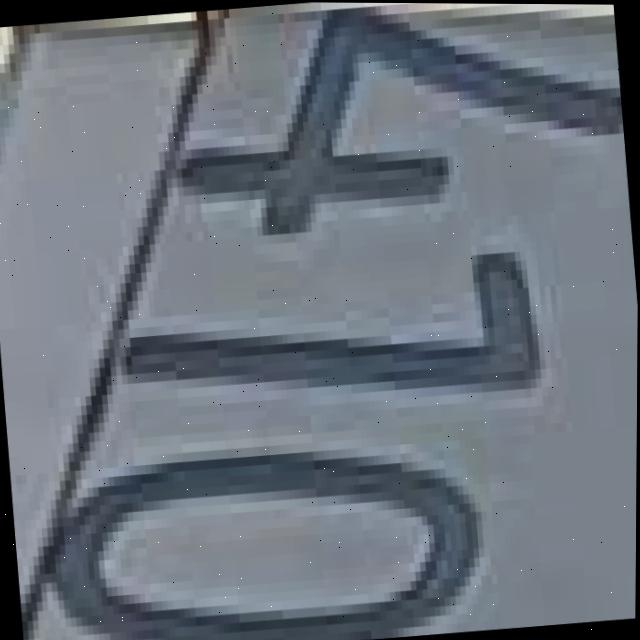character: (149, 1, 632, 264), (27, 415, 502, 640), (100, 238, 554, 431)
